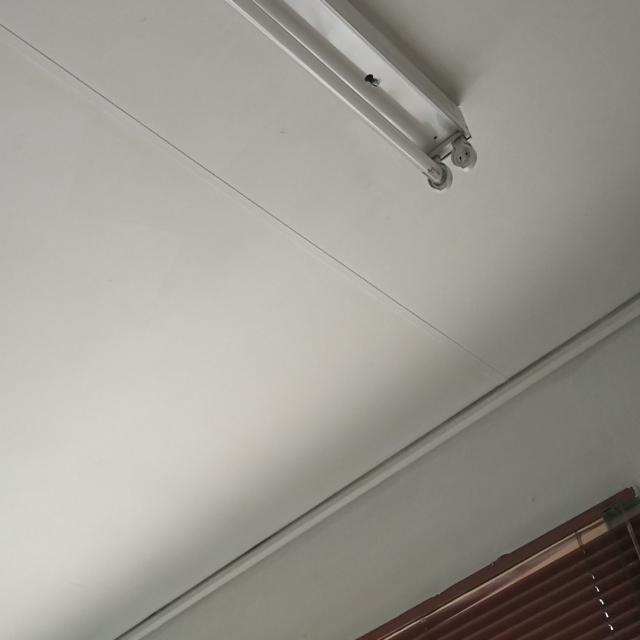fluorescent tube: (0, 0, 502, 222)
